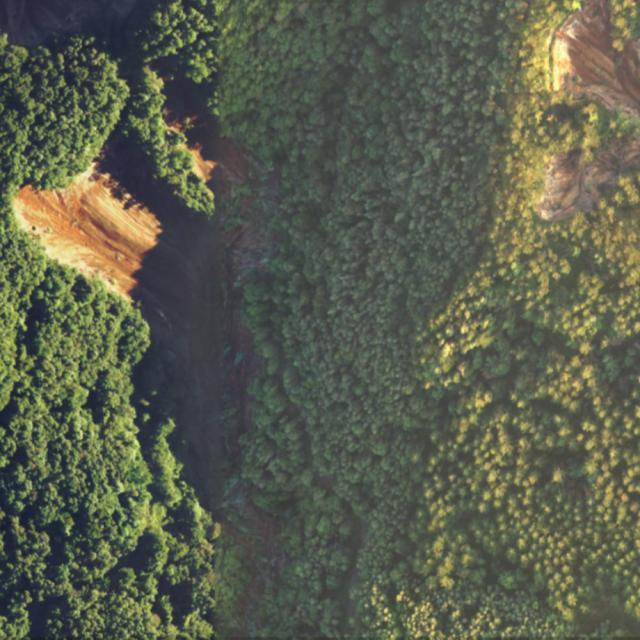landslide: (13, 67, 275, 521), (552, 0, 640, 116), (538, 135, 640, 220)
